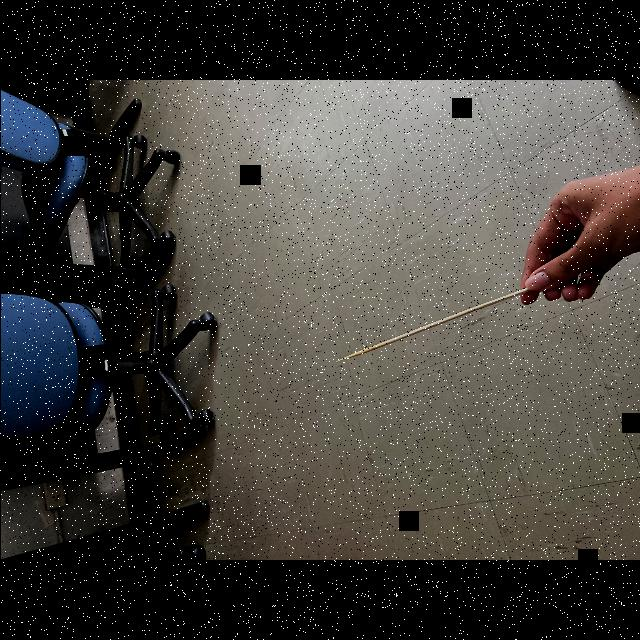stick: (329, 276, 539, 388)
